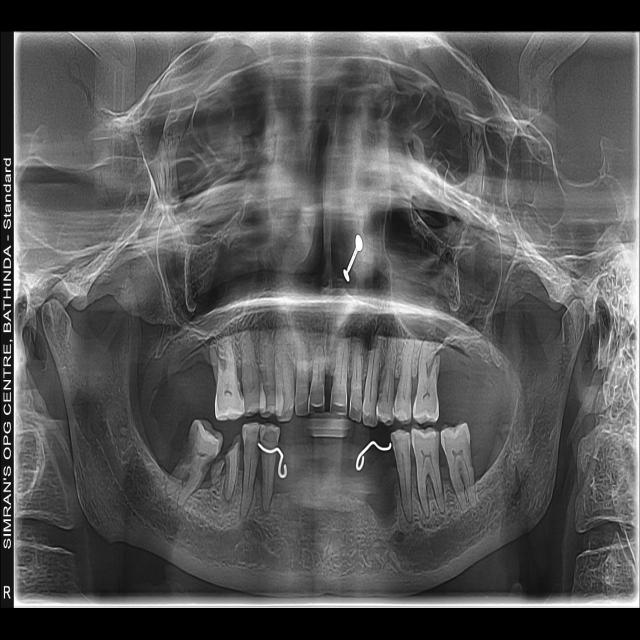Root Piece: (224, 436, 240, 501), (210, 459, 225, 485)
